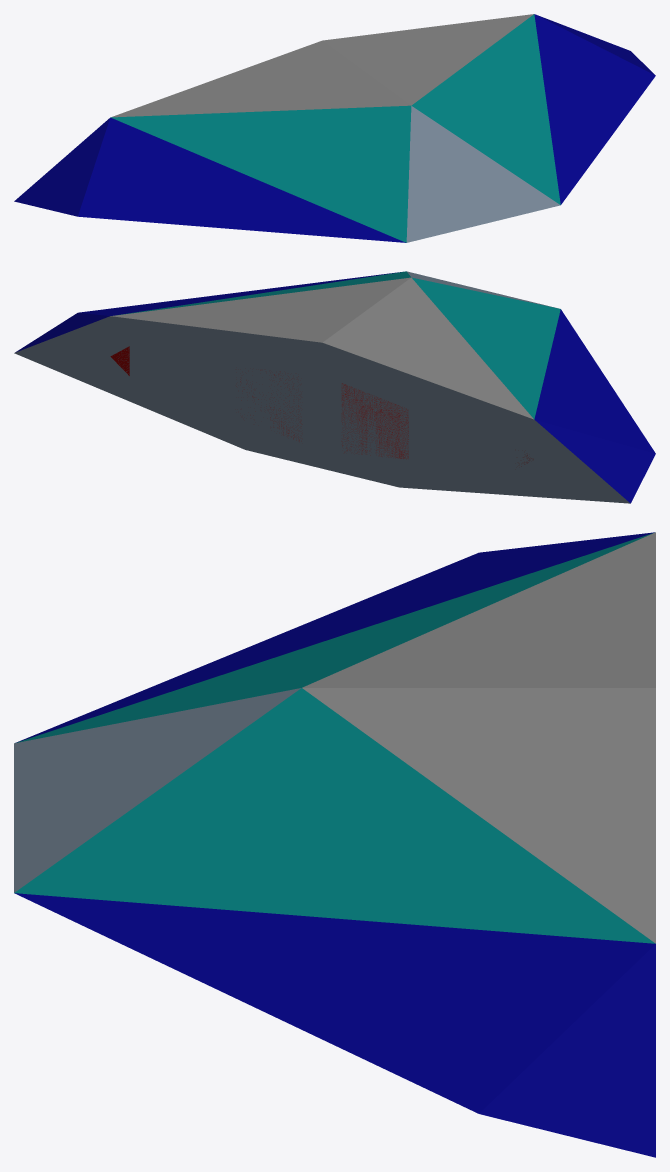
File: cobramk3.obj
3 renders of one model, top to bottom at view 1: azimuth 30°, elevation 25°; view 2: azimuth 150°, elevation 25°; view 3: azimuth 270°, elevation 25°, orthographic. The views are drawn at different scales.
Size of the model in its own units: 256 by 50 by 116.
